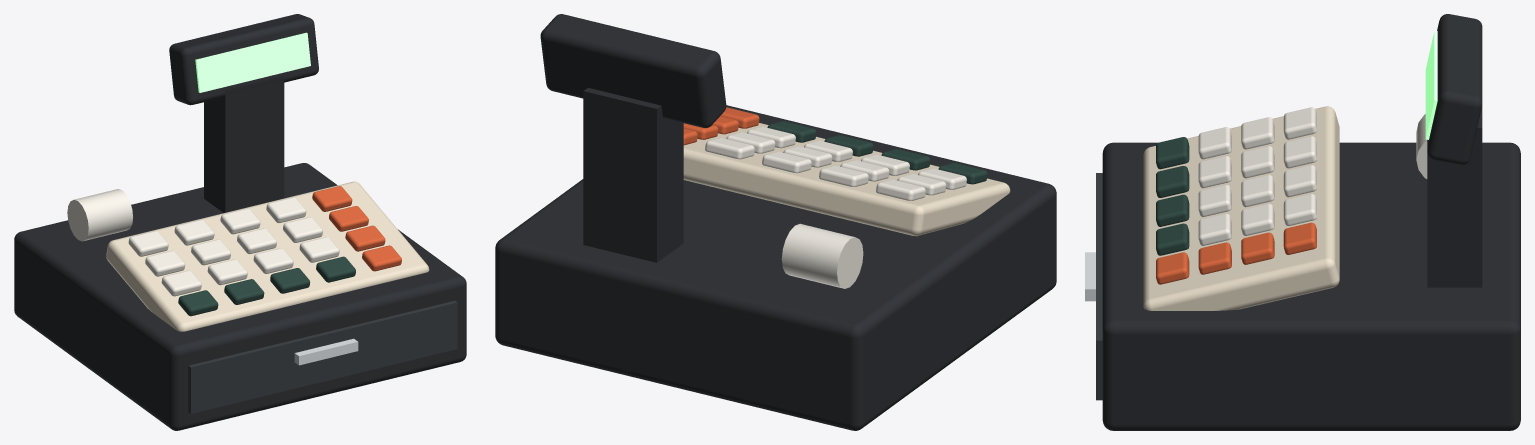
The model's file is cash-register.glb.
3 views of the same model, side by side, from view 1: azimuth 30°, elevation 25°; view 2: azimuth 150°, elevation 25°; view 3: azimuth 270°, elevation 25° (orthographic). The views are drawn at different scales.
Visible parts, largest first — view 1: base, key (×20), keypad, drawer, displayPost, display, lcd, receiptRoll, drawerHandle; view 2: base, displayPost, display, keypad, key (×16), receiptRoll; view 3: base, keypad, key (×20), displayPost, display, drawer, lcd, receiptRoll, drawerHandle.
Part boxes in pixels (<box>): base: <box>14,163,466,430</box>; key (×20): <box>128,186,401,316</box>; keypad: <box>106,181,429,331</box>; drawer: <box>188,300,457,413</box>; displayPost: <box>204,75,284,212</box>; display: <box>169,14,318,105</box>; lcd: <box>195,32,310,92</box>; receiptRoll: <box>67,189,133,241</box>; drawerHandle: <box>294,338,358,365</box>; base: <box>495,105,1056,430</box>; displayPost: <box>583,88,683,262</box>; display: <box>540,14,726,128</box>; keypad: <box>683,123,1010,236</box>; key (×16): <box>705,121,987,200</box>; receiptRoll: <box>781,223,863,288</box>; base: <box>1102,142,1520,430</box>; keypad: <box>1143,106,1339,310</box>; key (×20): <box>1156,107,1316,284</box>; displayPost: <box>1427,106,1482,287</box>; display: <box>1427,14,1482,165</box>; drawer: <box>1096,173,1102,400</box>; lcd: <box>1425,30,1437,139</box>; receiptRoll: <box>1416,114,1427,178</box>; drawerHandle: <box>1085,252,1095,301</box>.
Size of the model in its own units: 0.4 by 0.3268 by 0.396.
